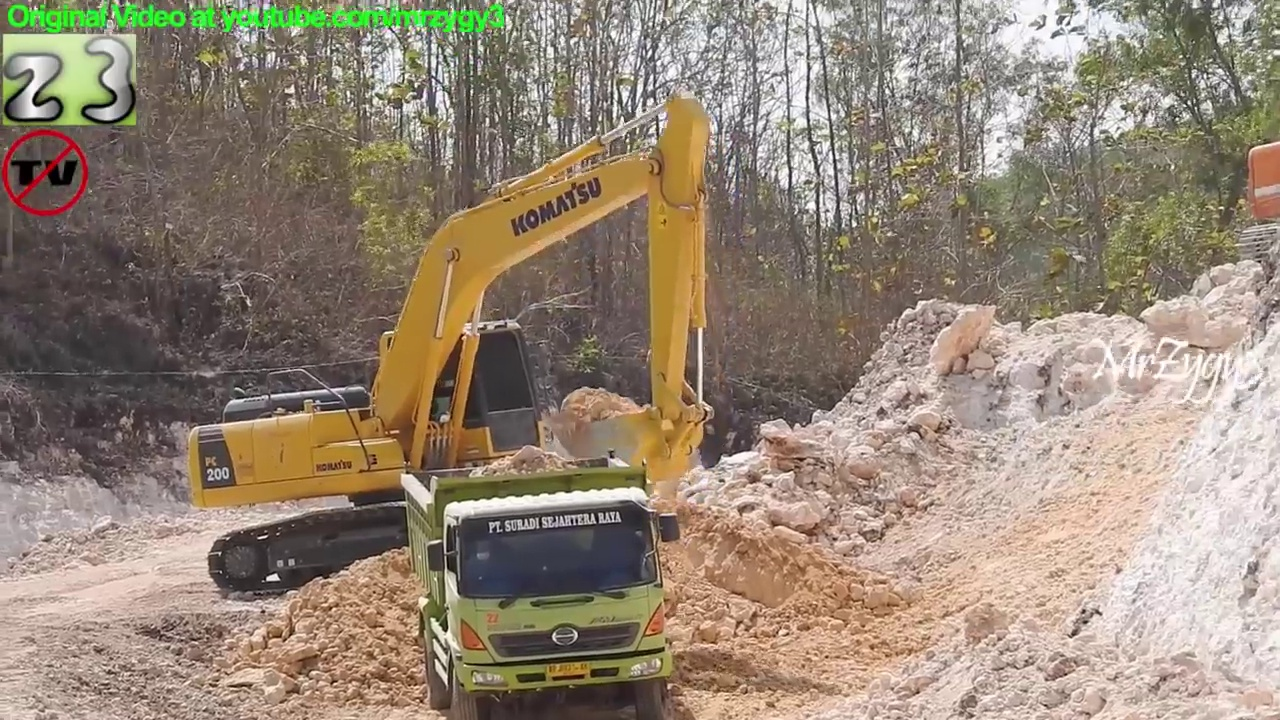excavator: (182, 92, 724, 612), (1230, 127, 1280, 287)
truck: (399, 454, 691, 720)
